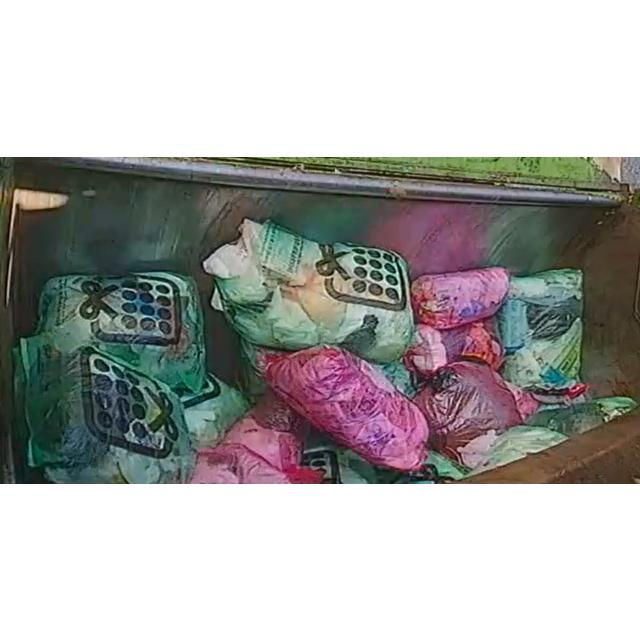general_trashbag: (204, 218, 414, 362), (15, 335, 195, 483), (36, 271, 205, 392), (498, 268, 582, 393)
other_trashbag: (266, 346, 429, 470), (412, 360, 538, 458), (411, 266, 509, 328)
